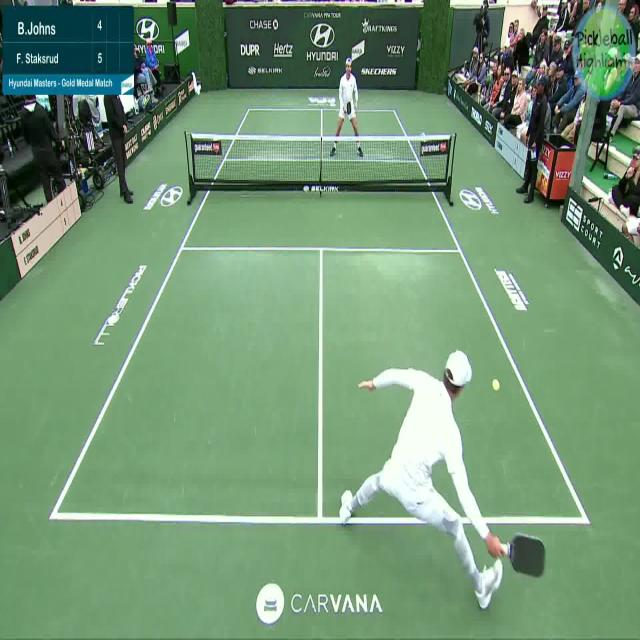Court: (51, 109, 589, 520)
ball: (492, 374, 502, 395)
